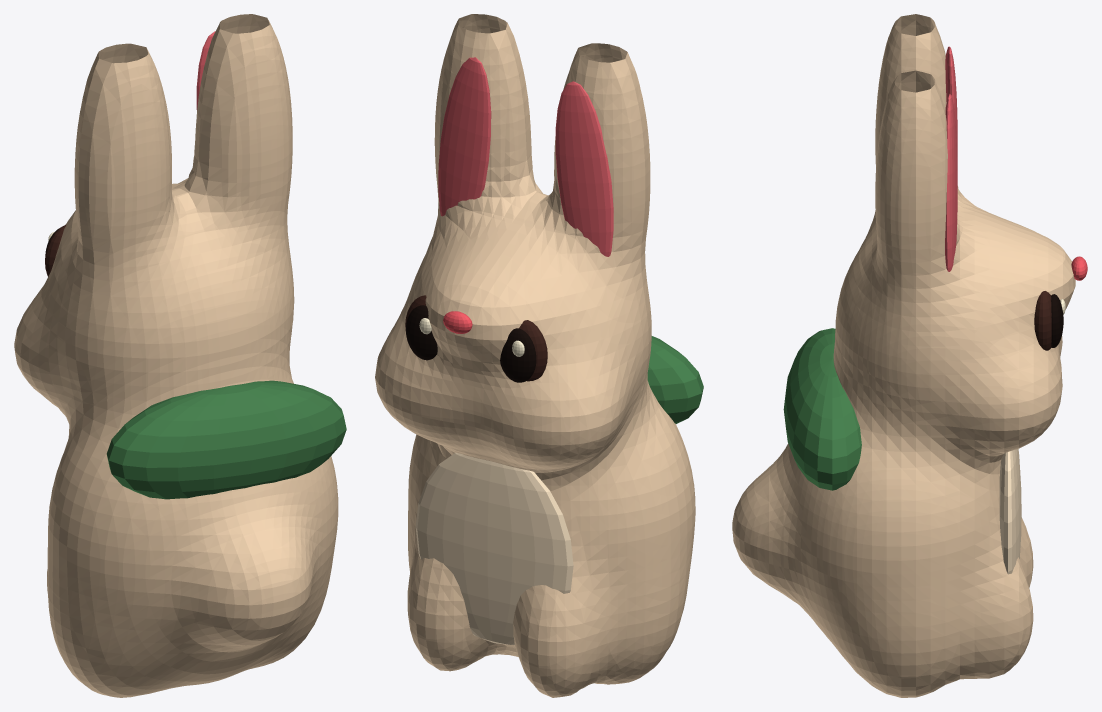
Rendered from bunny.obj.
3 renders of one model, left to right at view 1: azimuth 30°, elevation 25°; view 2: azimuth 150°, elevation 25°; view 3: azimuth 270°, elevation 25°, orthographic. The views are drawn at different scales.
Visible parts, largest first — view 1: Bunny_SculptedBody, LeafMantle; view 2: Bunny_SculptedBody, BellyPatch, EarInner_L, EarInner_R, LeafMantle, Eye_L, Eye_R, EyeSocket_L, Nose; view 3: Bunny_SculptedBody, LeafMantle, BellyPatch, EarInner_R, EyeSocket_R, EarInner_L, Eye_R.
Part boxes in pixels (<box>): Bunny_SculptedBody: <box>14,14,338,697</box>; LeafMantle: <box>106,380,346,499</box>; Bunny_SculptedBody: <box>375,14,695,697</box>; BellyPatch: <box>415,453,573,644</box>; EarInner_L: <box>555,81,613,256</box>; EarInner_R: <box>438,57,491,216</box>; LeafMantle: <box>647,336,703,423</box>; Eye_L: <box>500,328,536,382</box>; Eye_R: <box>405,305,437,360</box>; EyeSocket_L: <box>519,320,547,381</box>; Nose: <box>443,311,472,333</box>; Bunny_SculptedBody: <box>732,14,1075,697</box>; LeafMantle: <box>783,328,861,490</box>; BellyPatch: <box>999,448,1021,574</box>; EarInner_R: <box>945,94,957,271</box>; EyeSocket_R: <box>1034,291,1051,350</box>; EarInner_L: <box>945,46,957,163</box>; Eye_R: <box>1051,294,1063,347</box>.
Bounding box in the file's own units: 0.9588 × 2.2 × 1.17.
